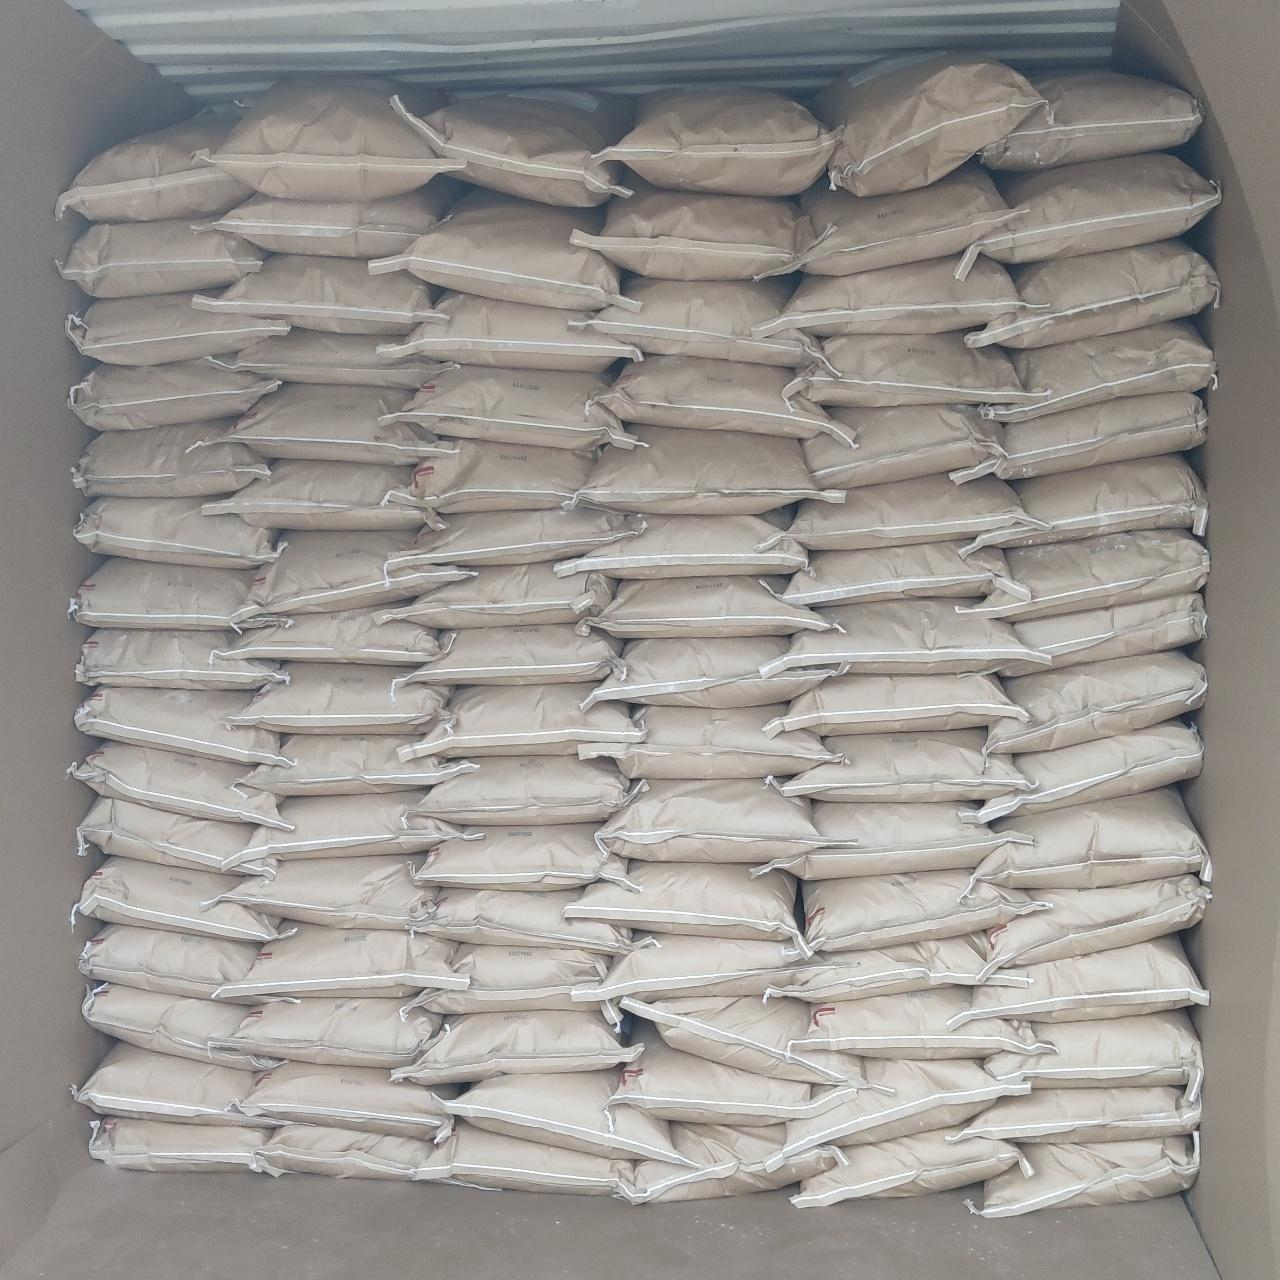sack: (821, 56, 1040, 192), (372, 192, 624, 309), (212, 80, 456, 198), (960, 154, 1218, 263), (610, 1016, 856, 1125), (968, 240, 1218, 346), (402, 94, 629, 206), (595, 90, 836, 195), (966, 720, 1201, 822), (584, 275, 832, 372), (971, 788, 1210, 886), (983, 651, 1206, 756), (986, 320, 1214, 422), (754, 254, 1032, 336), (799, 166, 1016, 270), (952, 934, 1206, 1022), (971, 456, 1206, 550), (952, 392, 1206, 478), (784, 1058, 1022, 1150), (574, 188, 813, 278), (958, 530, 1206, 617), (982, 72, 1200, 170), (574, 425, 828, 510), (442, 1070, 678, 1160), (754, 802, 1030, 878), (624, 996, 862, 1084), (57, 113, 248, 222), (982, 874, 1210, 966), (594, 356, 846, 438), (382, 368, 638, 448), (384, 292, 638, 370), (238, 532, 468, 617), (802, 870, 1040, 949), (198, 254, 434, 334), (568, 862, 799, 942), (584, 704, 842, 776), (600, 778, 822, 862), (74, 858, 292, 942), (787, 476, 1034, 550), (415, 944, 621, 1032), (792, 1130, 1028, 1206), (768, 934, 1030, 1002), (792, 332, 1032, 406), (620, 1124, 842, 1204), (216, 924, 458, 996), (976, 1136, 1198, 1214), (778, 600, 1024, 670), (586, 636, 838, 704), (772, 730, 1024, 798), (195, 188, 450, 254), (207, 855, 438, 928), (224, 384, 444, 462), (70, 740, 278, 822), (394, 1010, 640, 1080), (84, 982, 278, 1070), (74, 1042, 272, 1128), (986, 1012, 1201, 1090), (238, 790, 474, 862), (410, 685, 638, 758), (1002, 594, 1206, 676), (386, 508, 644, 572), (236, 1062, 452, 1138), (798, 988, 1040, 1056), (414, 1122, 634, 1196), (583, 932, 826, 998), (768, 672, 1024, 734), (74, 688, 282, 764), (806, 406, 1002, 486), (202, 459, 438, 526), (779, 542, 1024, 606), (411, 888, 652, 954), (230, 662, 450, 734), (560, 510, 804, 574), (66, 294, 286, 365), (218, 998, 444, 1065), (79, 796, 274, 874), (70, 558, 284, 629), (57, 220, 263, 294), (70, 358, 278, 430), (390, 561, 614, 628), (584, 578, 838, 636), (416, 756, 642, 822), (72, 420, 270, 493), (388, 440, 592, 510), (210, 328, 456, 386), (948, 1085, 1198, 1142), (76, 498, 282, 566), (414, 824, 636, 886), (236, 736, 476, 794), (394, 624, 620, 685), (80, 924, 260, 998), (218, 606, 444, 663), (76, 629, 286, 686), (90, 1116, 282, 1175), (260, 1124, 433, 1180)
